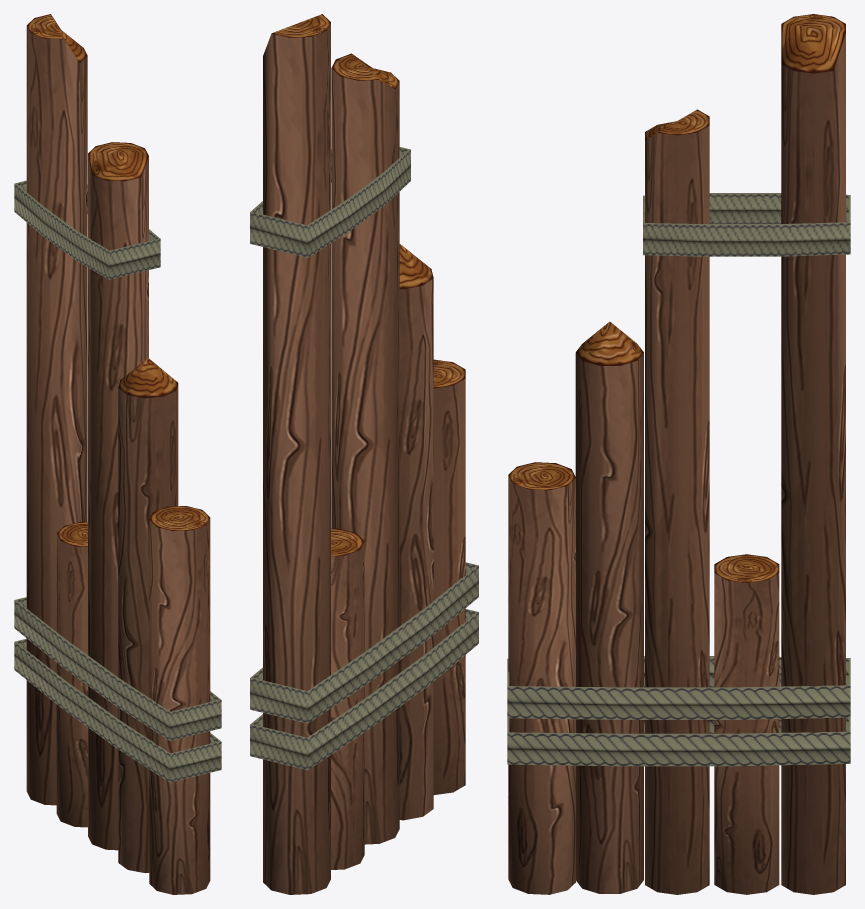
The model's file is Fence_3.fbx.
The picture shows the model from 3 angles, left to right: view 1: azimuth 30°, elevation 25°; view 2: azimuth 150°, elevation 25°; view 3: azimuth 270°, elevation 25°; orthographic projection. The views are drawn at different scales.
Parts seen in each view (by area): view 1: Fence_3; view 2: Fence_3; view 3: Fence_3.
Boxes of the visible parts, x1,y1,x2,y2 form: Fence_3: [14, 14, 221, 894]; Fence_3: [250, 14, 478, 894]; Fence_3: [507, 14, 850, 894].
Size of the model in its own units: 0.4494 by 5.52 by 2.01.
